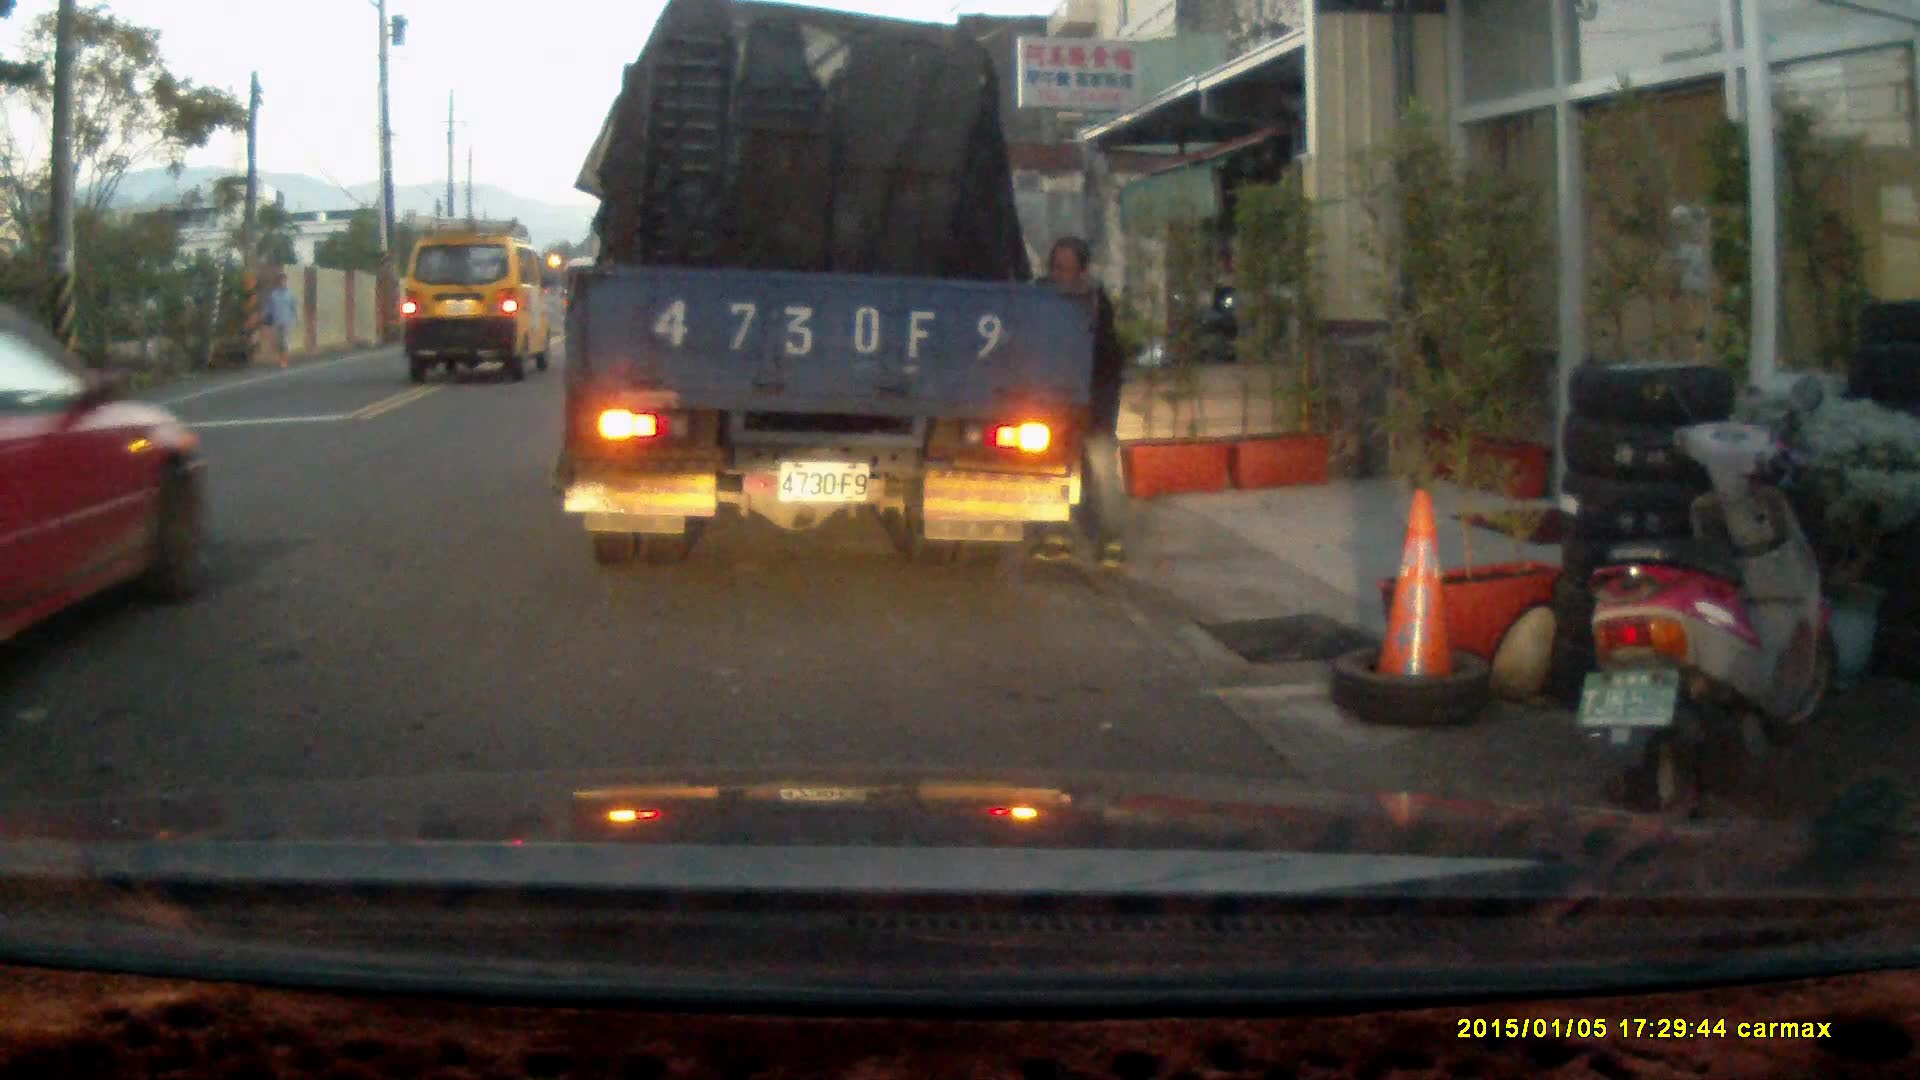pedestrian: (1021, 232, 1131, 574), (257, 276, 297, 369)
vehicle: (565, 23, 1095, 568), (1, 293, 208, 672), (399, 233, 559, 379)
